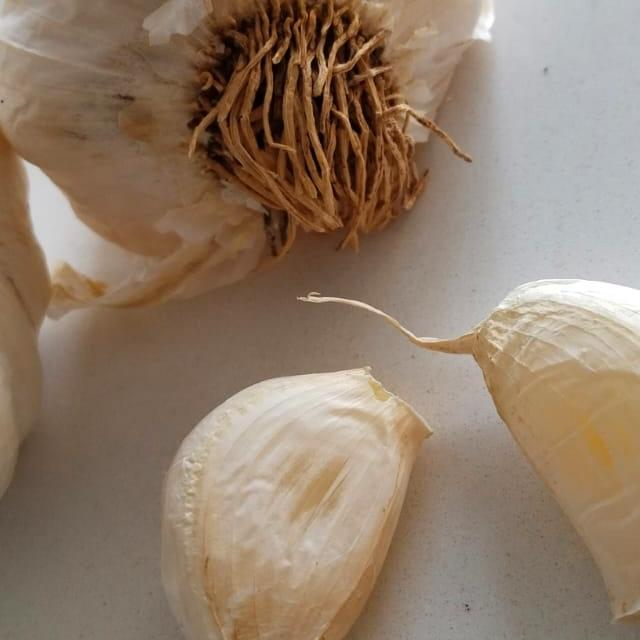garlic: (0, 0, 503, 263), (98, 336, 440, 640), (460, 271, 640, 640)
